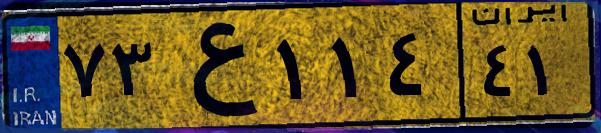1: (270, 28, 330, 110), (330, 28, 385, 110), (525, 38, 570, 115)
3: (110, 28, 158, 98)
4: (385, 28, 445, 110), (475, 38, 525, 113)
7: (57, 26, 110, 100)
ع: (158, 12, 270, 120)
